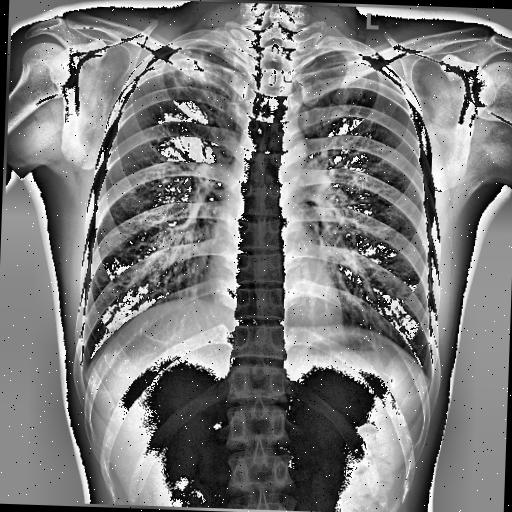11- Pleural thickening: (148, 46, 176, 64)
13- Pulmonary fibrosis: (152, 45, 236, 134), (166, 47, 226, 120), (166, 48, 231, 115)
4- Consolidation: (166, 48, 231, 115)
6- Infiltration: (166, 47, 226, 120)
